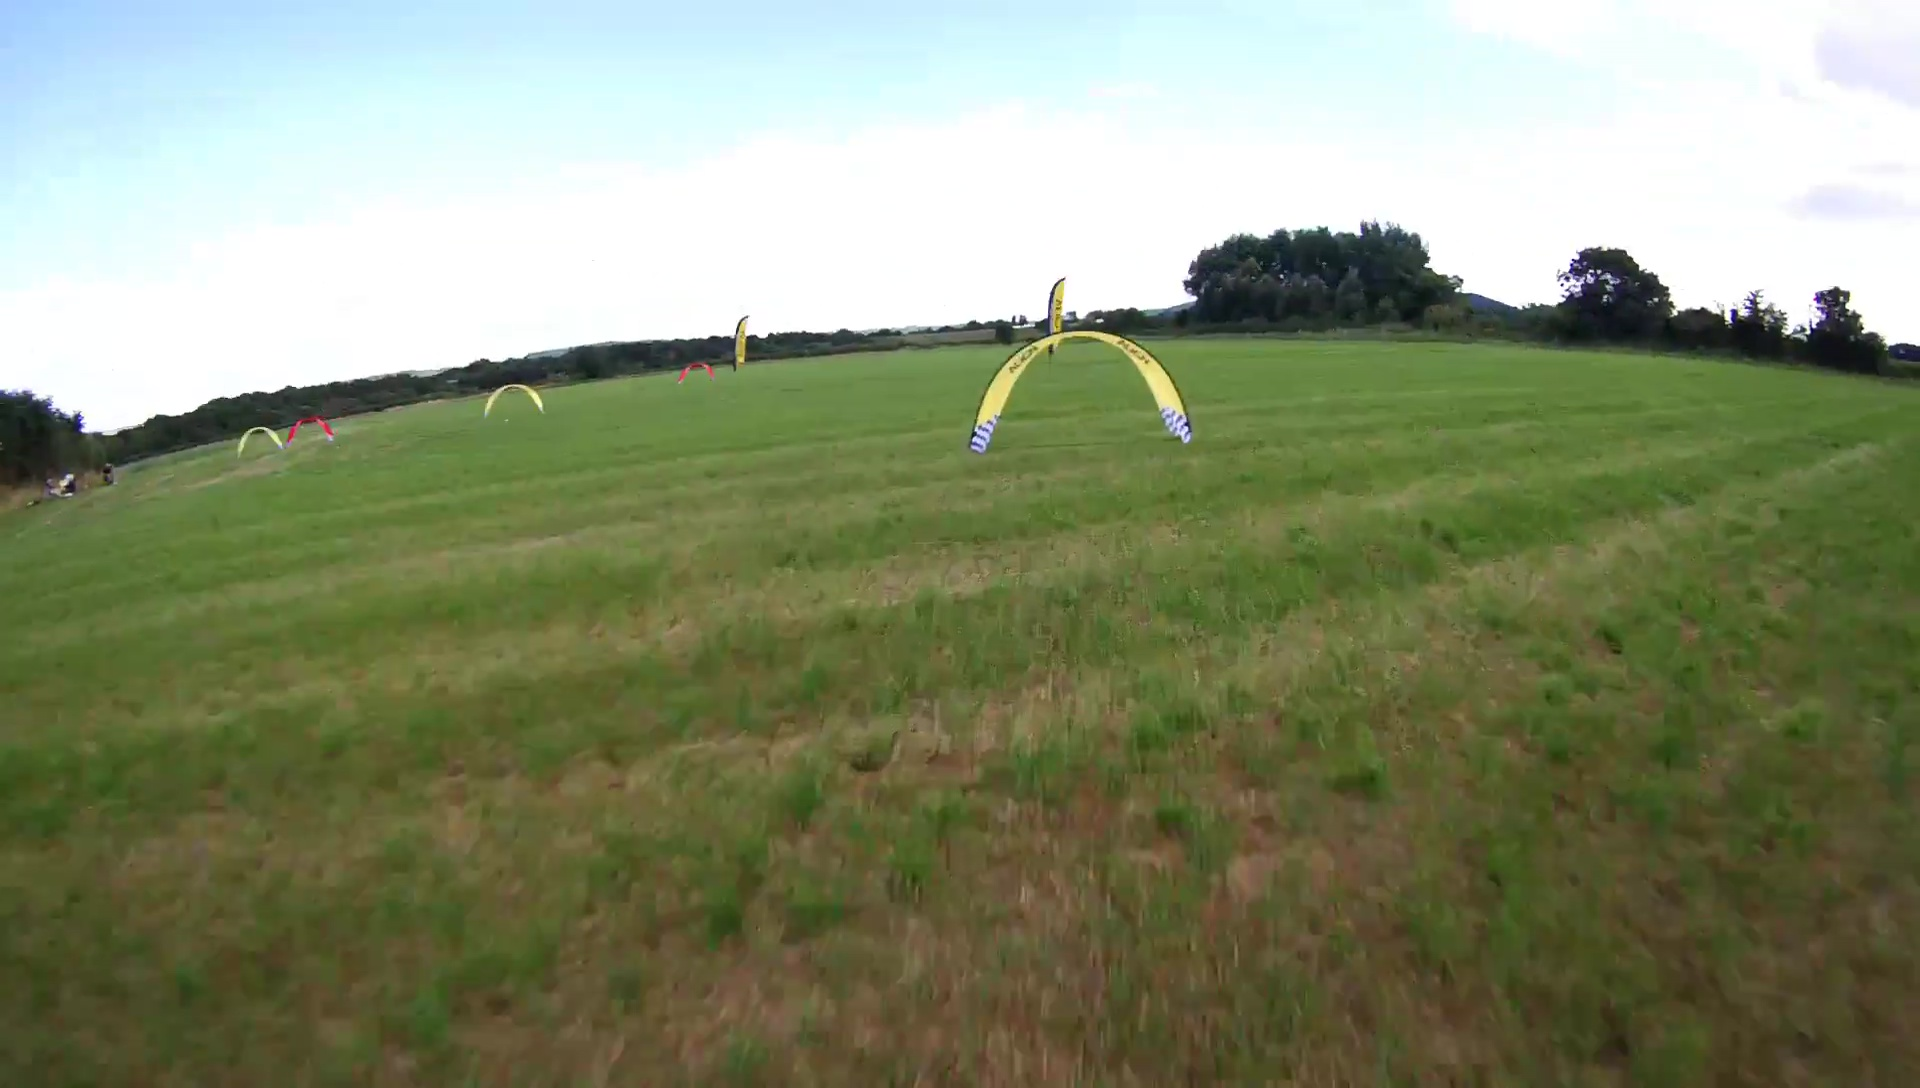gate: (967, 328, 1193, 454), (483, 382, 546, 415), (285, 415, 338, 444), (236, 422, 282, 455), (676, 361, 717, 386)
